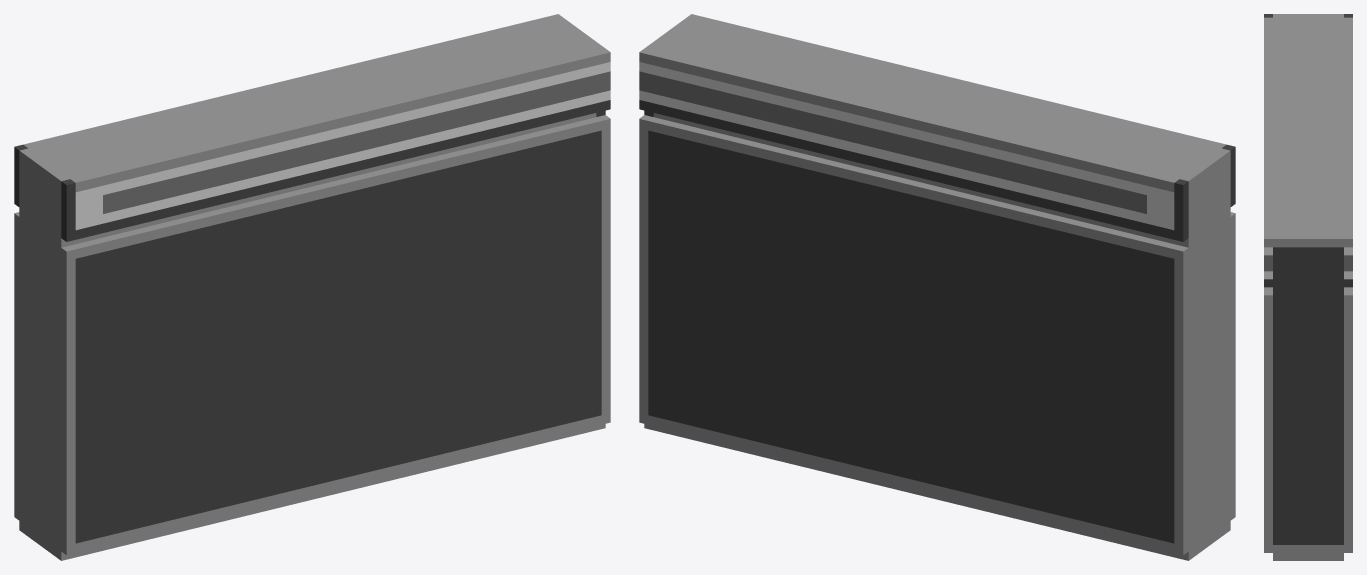
File: Server Wall 3.obj
The picture shows the model from 3 angles, left to right: view 1: azimuth 30°, elevation 25°; view 2: azimuth 150°, elevation 25°; view 3: azimuth 270°, elevation 25°; orthographic projection. The views are drawn at different scales.
Bounding box in the file's own units: 60 × 40 × 10.
Materials: 1 (1 with a texture image).
